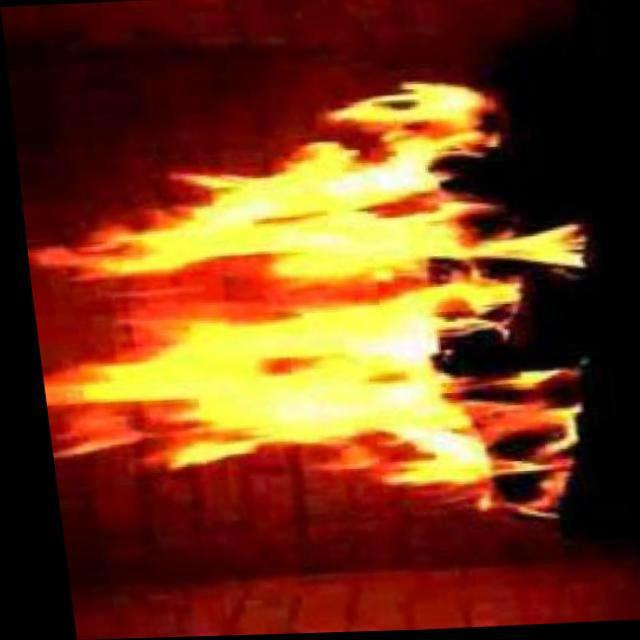fire: (29, 90, 510, 490)
